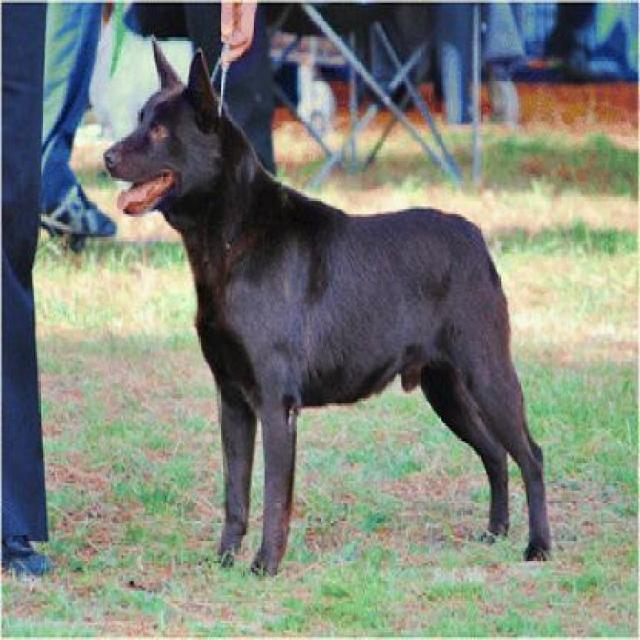animals: (94, 29, 561, 554)
